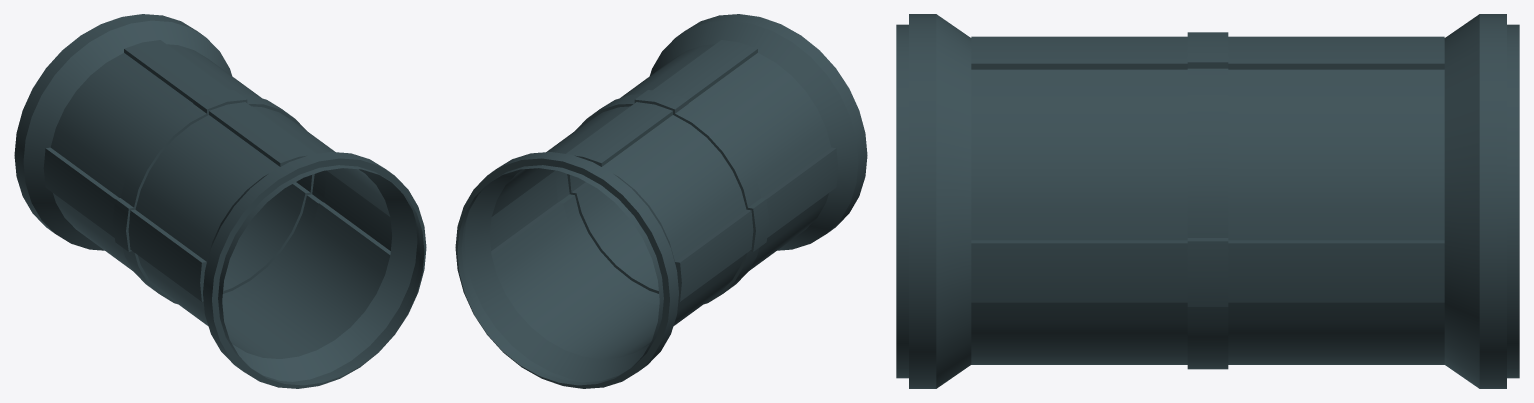
The model's file is tube_straight.fbx.
3 views of the same model, side by side, from view 1: azimuth 30°, elevation 25°; view 2: azimuth 150°, elevation 25°; view 3: azimuth 270°, elevation 25° (orthographic). The views are drawn at different scales.
Visible parts, largest first — view 1: Tube_Forward; view 2: Tube_Forward; view 3: Tube_Forward.
Boxes of the visible parts, x1,y1,x2,y2 form: Tube_Forward: (14,14,426,388); Tube_Forward: (455,14,867,388); Tube_Forward: (896,14,1519,388).
Bounding box in the file's own units: 241 × 241 × 400.
